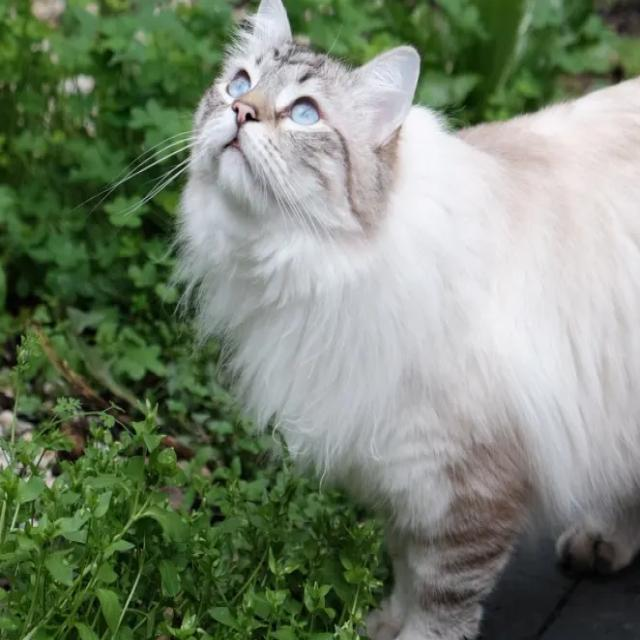Neva Masquerade: (175, 0, 640, 640)
